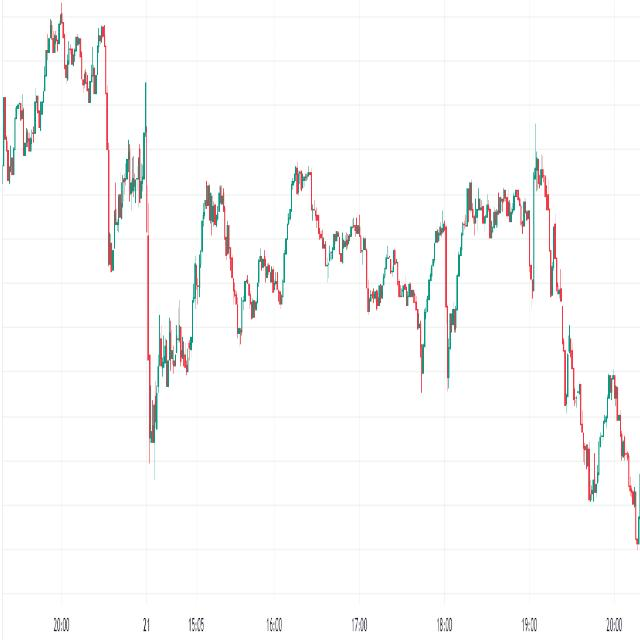Double-Top: (199, 166, 228, 265)
